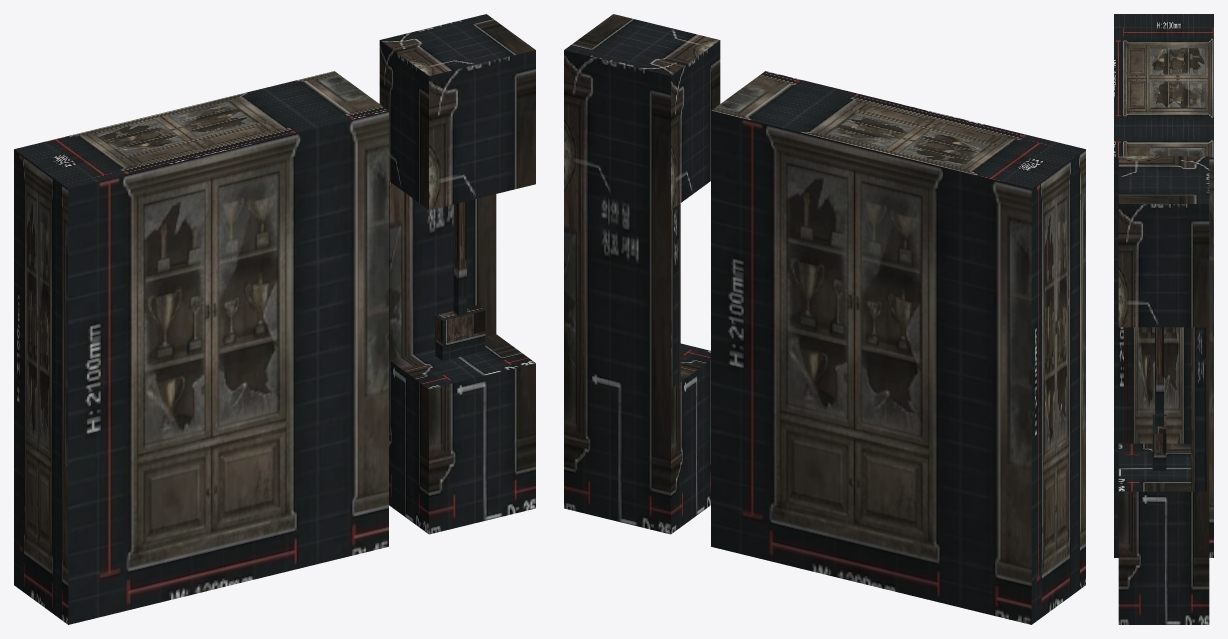
The model's file is sf_anim_trophy_clock.glb.
3 views of the same model, side by side, from view 1: azimuth 30°, elevation 25°; view 2: azimuth 150°, elevation 25°; view 3: azimuth 270°, elevation 25° (orthographic). The views are drawn at different scales.
Parts seen in each view (by area): view 1: HorrorClockAndTrophyCase_Root, HorrorClockAndTrophyCase_AnimPart; view 2: HorrorClockAndTrophyCase_Root; view 3: HorrorClockAndTrophyCase_Root, HorrorClockAndTrophyCase_AnimPart.
Boxes of the visible parts, x1=… form: HorrorClockAndTrophyCase_Root: x1=14, y1=14, x2=535, y2=624; HorrorClockAndTrophyCase_AnimPart: x1=435, y1=201, x2=485, y2=360; HorrorClockAndTrophyCase_Root: x1=564, y1=14, x2=1085, y2=624; HorrorClockAndTrophyCase_Root: x1=1114, y1=14, x2=1213, y2=624; HorrorClockAndTrophyCase_AnimPart: x1=1152, y1=327, x2=1166, y2=470.
Size of the model in its own units: 2.2 by 2.05 by 0.44.
1 material, 1 textured.
